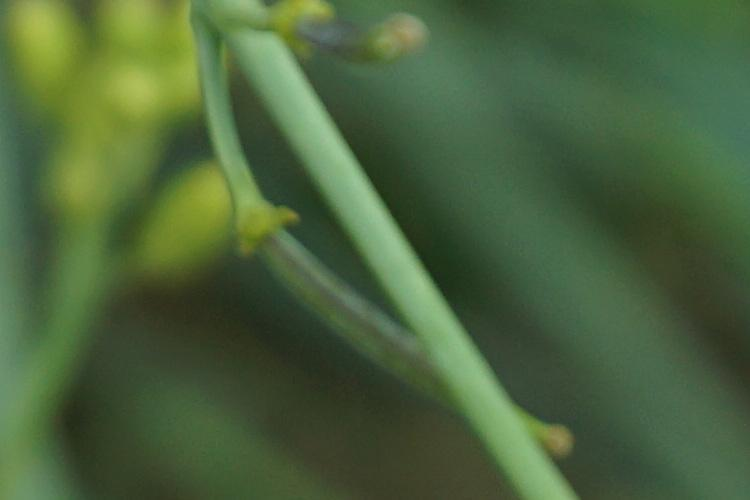pod: (240, 207, 612, 470), (263, 8, 439, 76)
